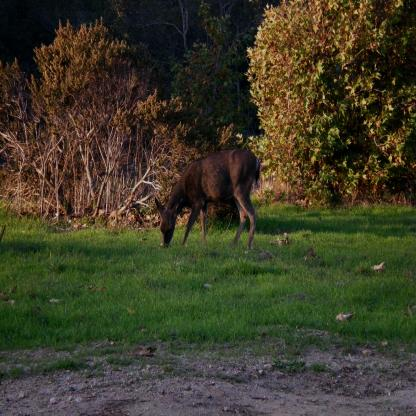Deer: (156, 146, 262, 249)
